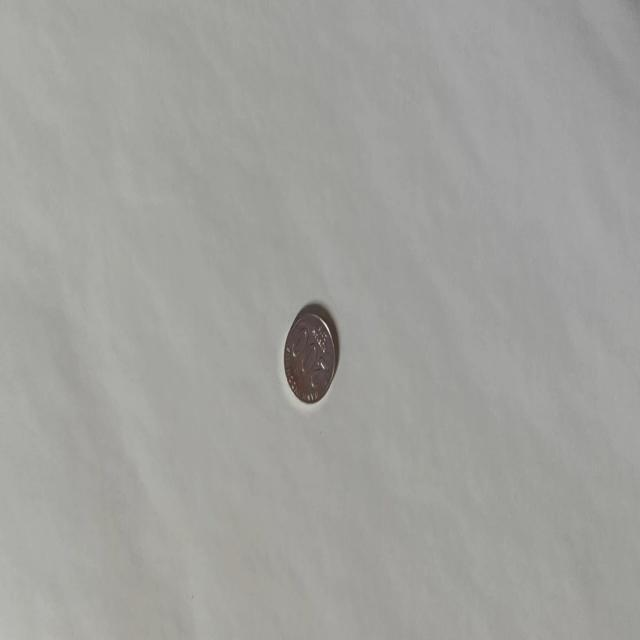dua ratus rupiah: (282, 310, 336, 404)
